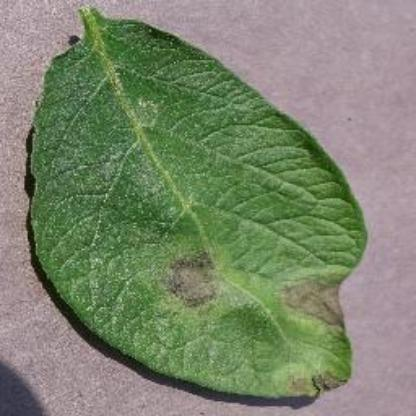Late-Blight: (37, 12, 388, 410)
